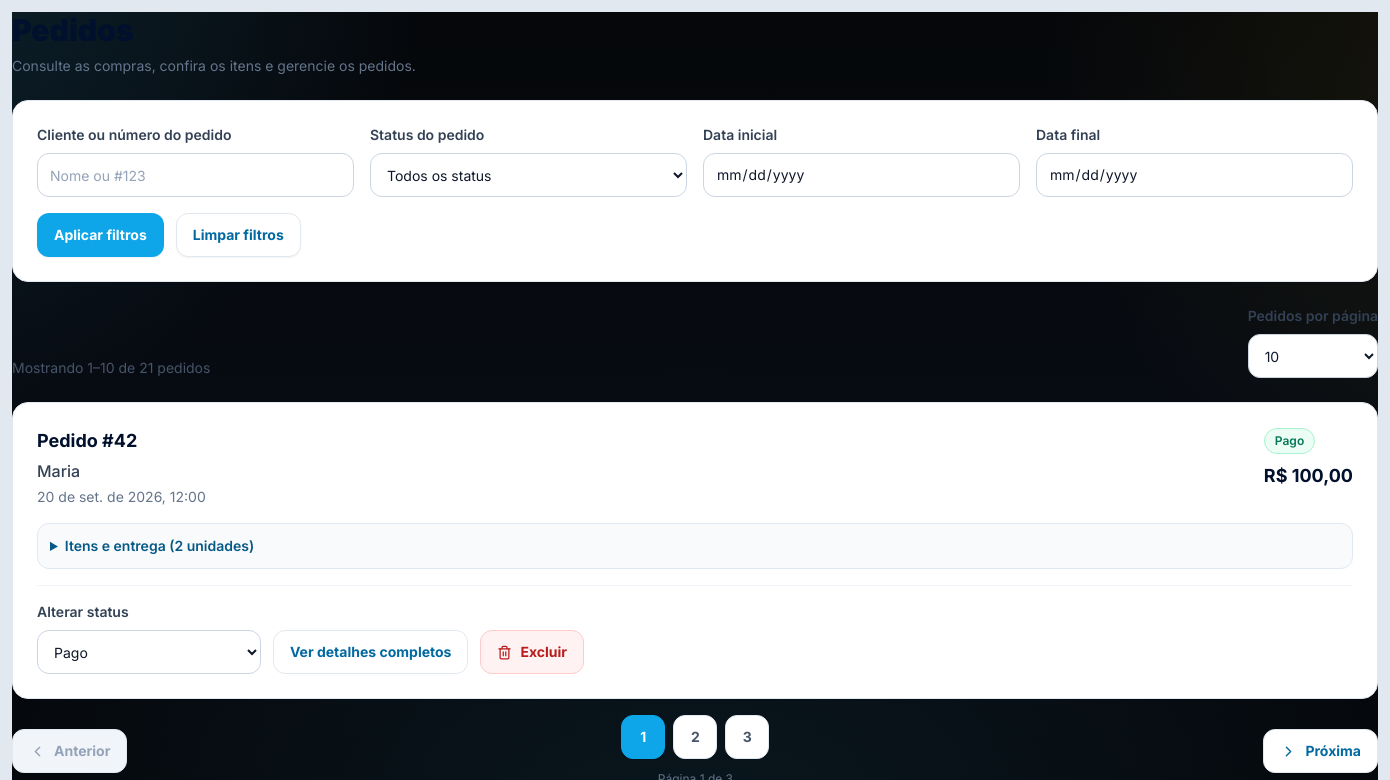
Test: loads subsequent pages and resets pagination when applying server filters
Expected: the heading "Pedido #42" is shown, [37,430,137,451]
Click the button "Próxima" at (1321, 751), box [1263,729,1378,773]
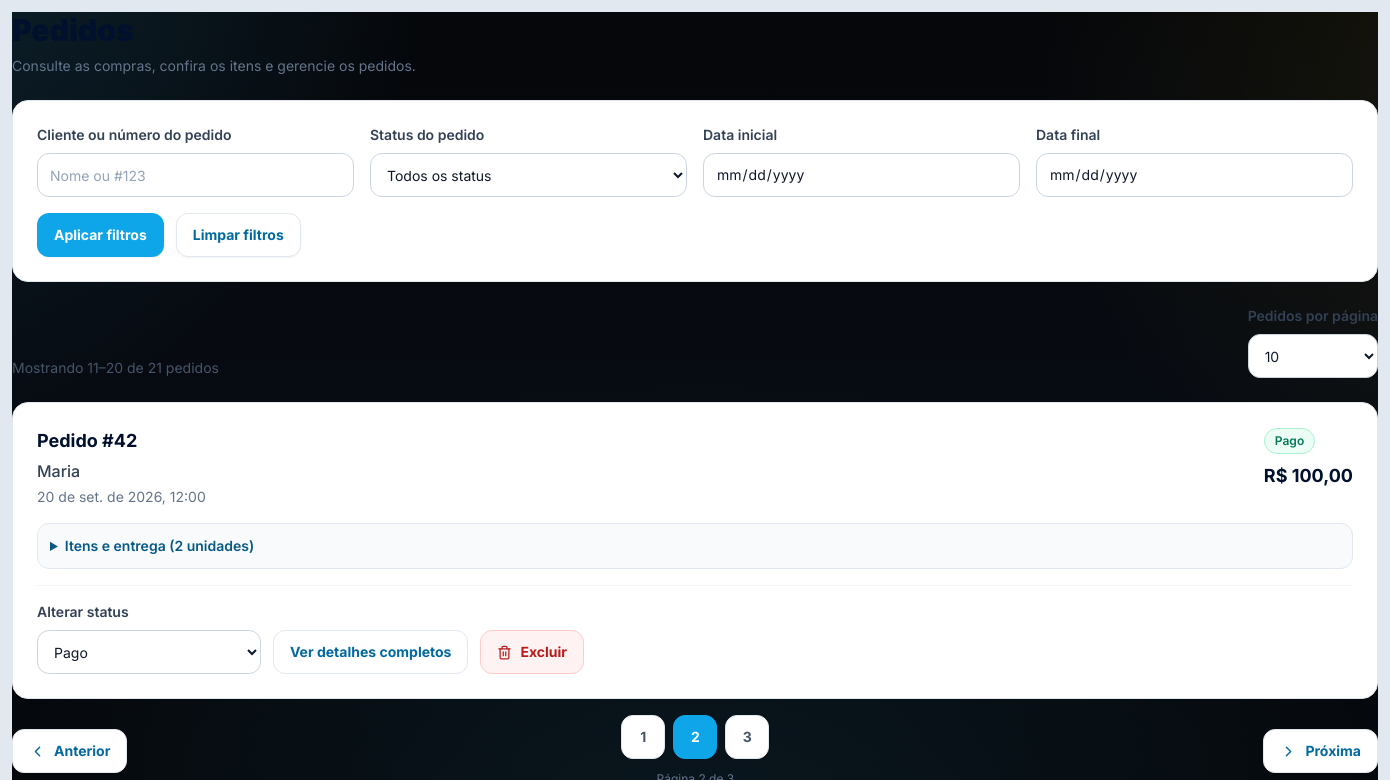
Type "Maria" into the field labelled "Cliente ou número do pedido" at (196, 175), box [37,153,354,197]
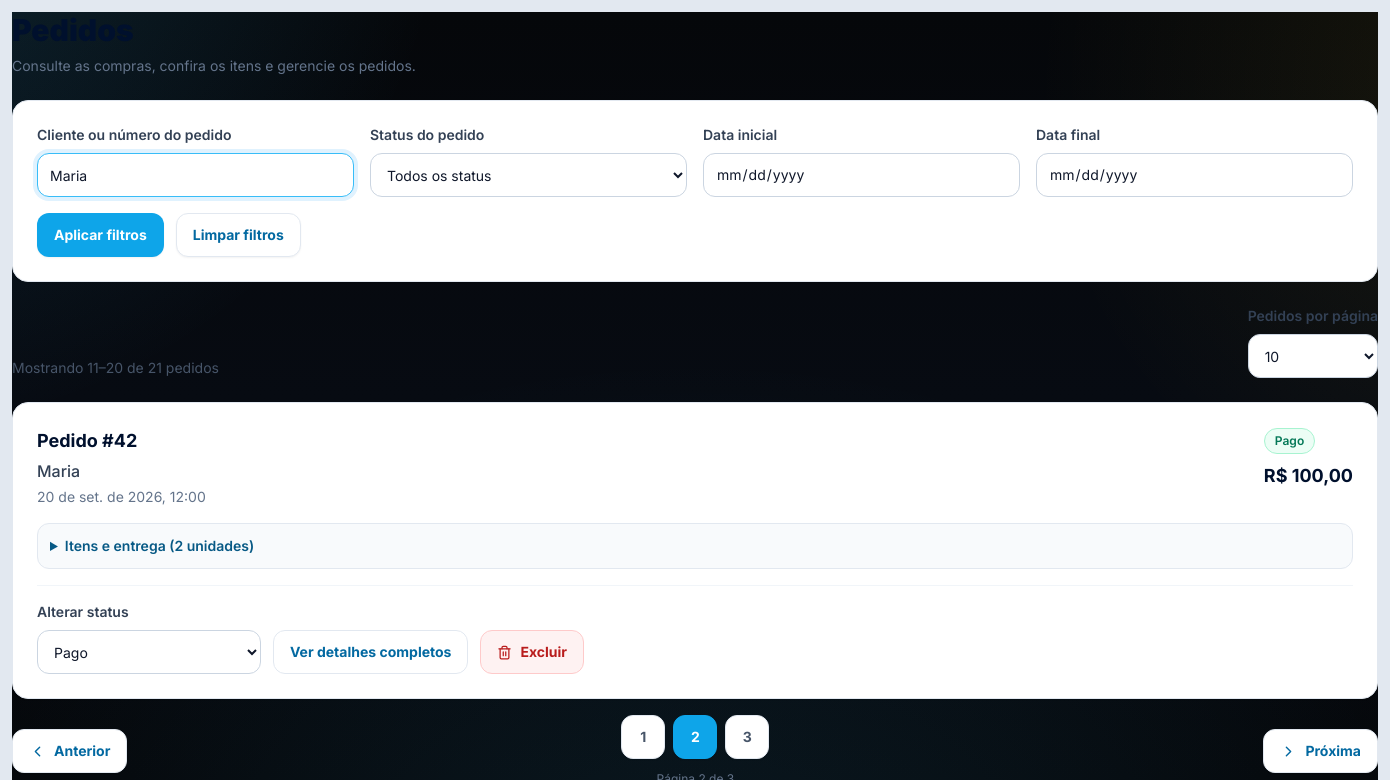
Select "Pago" in the dropdown labelled "Status do pedido" at (528, 175), box [370,153,687,197]
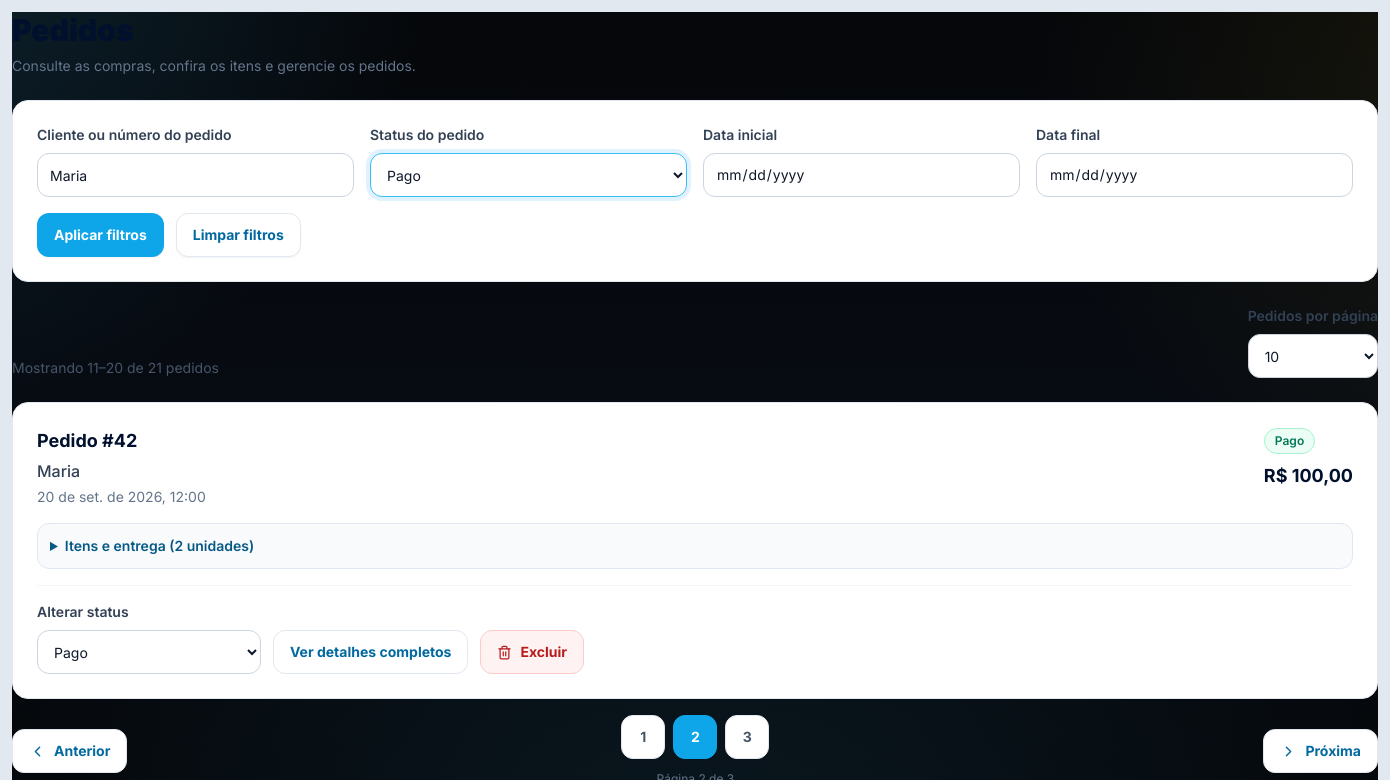
Click the button "Aplicar filtros" at (100, 235), box [37,213,164,257]
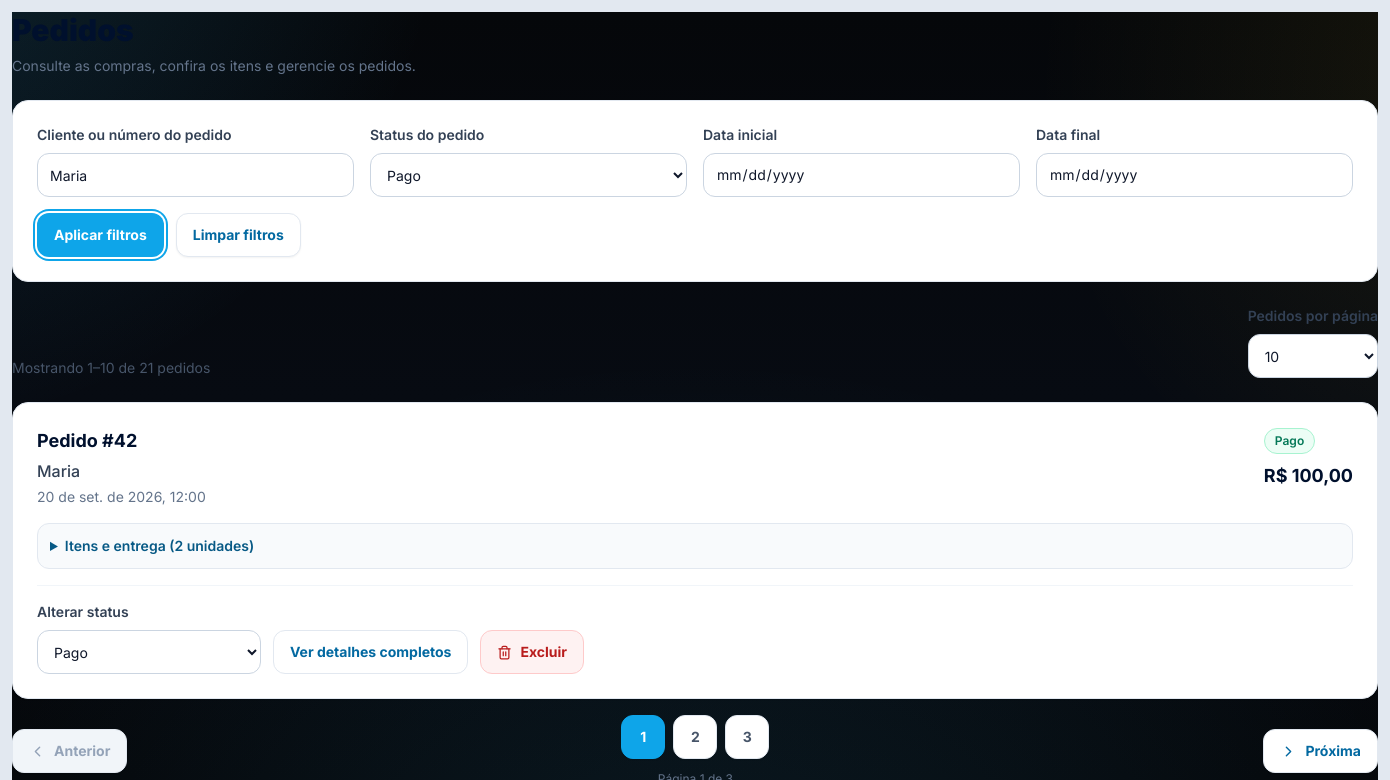
Click the button "Limpar filtros" at (238, 235), box [176,213,301,257]
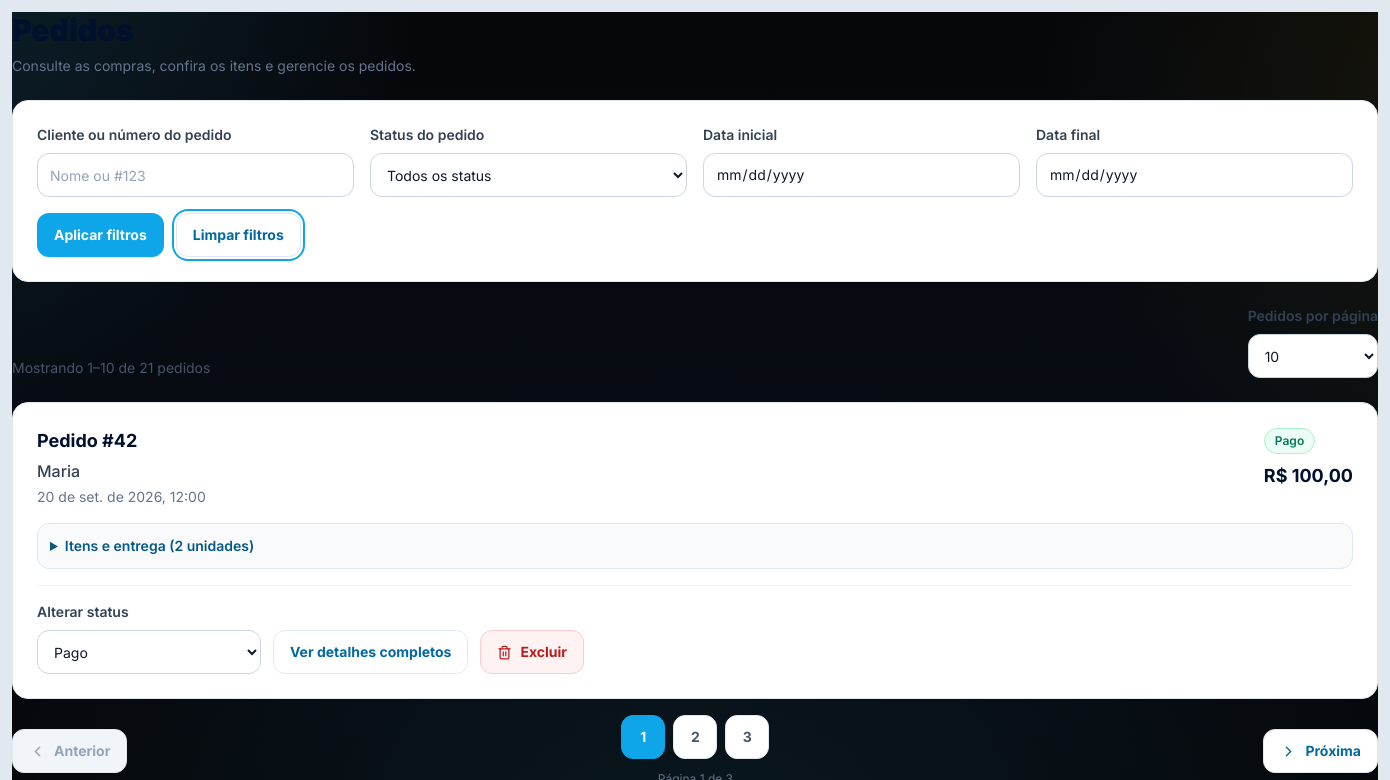
Expected: the field labelled "Cliente ou número do pedido" is empty, [37,153,354,197]
